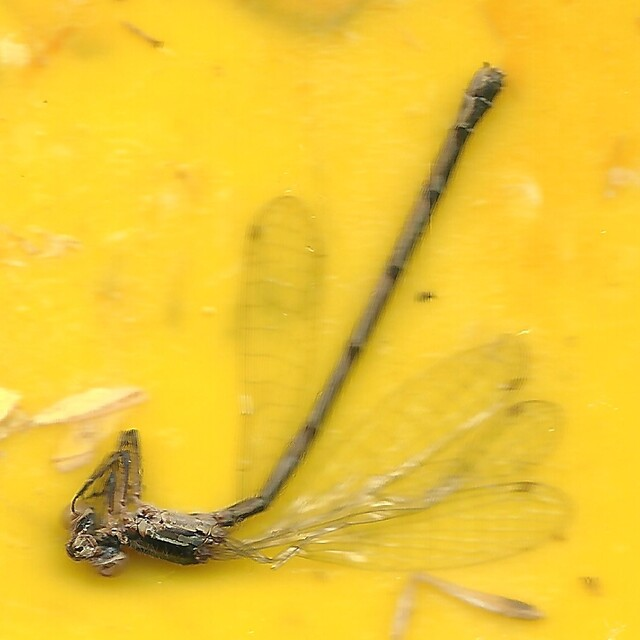Odonata: (61, 58, 579, 582)
